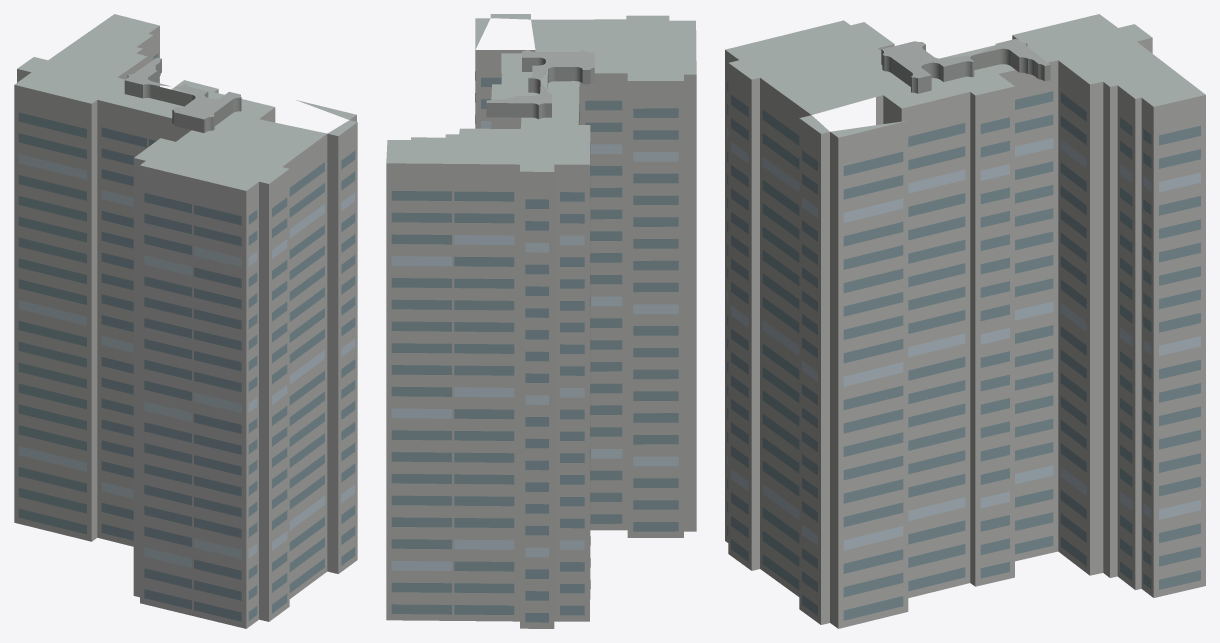
Rendered from fallback-acro-riverpark-111.glb.
3 views of the same model, side by side, from view 1: azimuth 30°, elevation 25°; view 2: azimuth 150°, elevation 25°; view 3: azimuth 270°, elevation 25° (orthographic). The views are drawn at different scales.
Parts seen in each view (by area): view 1: fallback-acro-riverpark-111; view 2: fallback-acro-riverpark-111; view 3: fallback-acro-riverpark-111.
Boxes of the visible parts, bbox=[...] form: fallback-acro-riverpark-111: bbox=[14, 14, 357, 628]; fallback-acro-riverpark-111: bbox=[386, 14, 696, 628]; fallback-acro-riverpark-111: bbox=[725, 14, 1205, 628].
Bounding box in the file's own units: 41.4 × 79 × 67.96.
